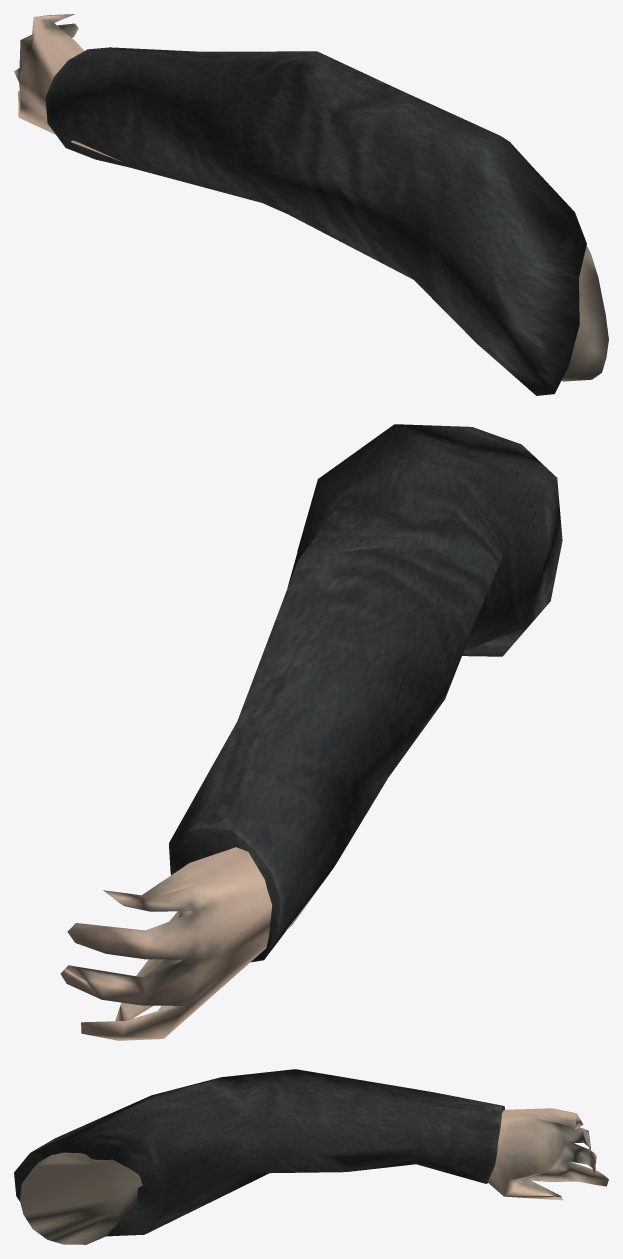
Rendered from dest_nt_nuked_male_01_arm_right_LOD2.obj.
3 renders of one model, top to bottom at view 1: azimuth 30°, elevation 25°; view 2: azimuth 150°, elevation 25°; view 3: azimuth 270°, elevation 25°, orthographic. The views are drawn at different scales.
Parts seen in each view (by area): view 1: mtl_nt_2020_manne_male01_jacket1, mtl_nt_2020_manne_male01_head1; view 2: mtl_nt_2020_manne_male01_jacket1, mtl_nt_2020_manne_male01_head1; view 3: mtl_nt_2020_manne_male01_jacket1, mtl_nt_2020_manne_male01_head1.
Part boxes in pixels (x1,y1,x2,y2): mtl_nt_2020_manne_male01_jacket1: [45, 47, 586, 395]; mtl_nt_2020_manne_male01_head1: [14, 14, 608, 381]; mtl_nt_2020_manne_male01_jacket1: [169, 424, 562, 962]; mtl_nt_2020_manne_male01_head1: [60, 847, 324, 1040]; mtl_nt_2020_manne_male01_jacket1: [14, 1069, 504, 1236]; mtl_nt_2020_manne_male01_head1: [20, 1108, 608, 1244].
Bounding box in the file's own units: 21.04 × 20.3 × 73.69.
